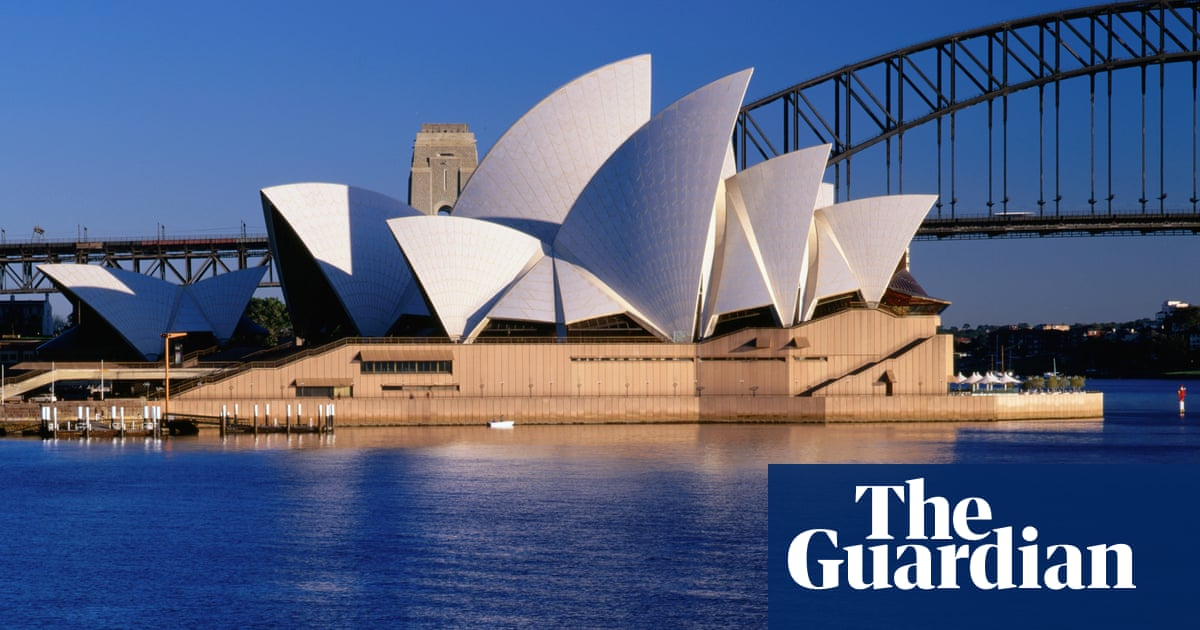opera house: (50, 62, 1020, 427)
